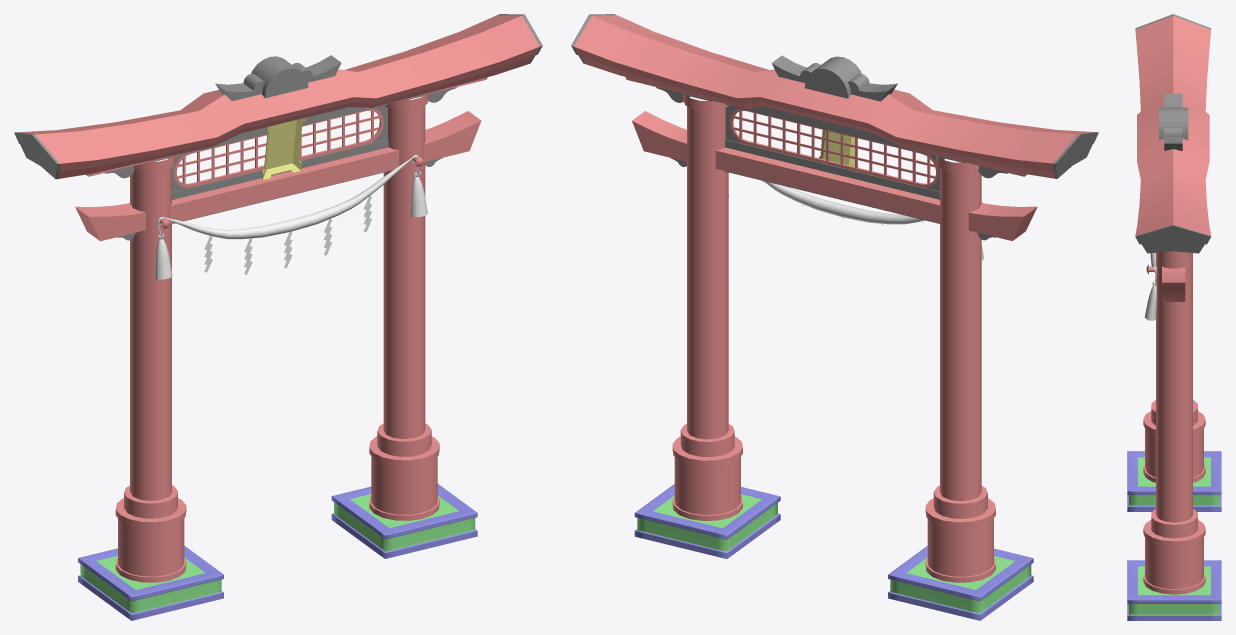
The model's file is SM_ENV_LKNVLD_Torii_Moon.gltf.
3 views of the same model, side by side, from view 1: azimuth 30°, elevation 25°; view 2: azimuth 150°, elevation 25°; view 3: azimuth 270°, elevation 25° (orthographic). The views are drawn at different scales.
Parts seen in each view (by area): view 1: SM_ENV_LKNVLD_Torii_Moon; view 2: SM_ENV_LKNVLD_Torii_Moon; view 3: SM_ENV_LKNVLD_Torii_Moon.
Part boxes in pixels (left/top/right/bottom): SM_ENV_LKNVLD_Torii_Moon: left=14, top=14, right=542, bottom=620; SM_ENV_LKNVLD_Torii_Moon: left=571, top=14, right=1098, bottom=620; SM_ENV_LKNVLD_Torii_Moon: left=1127, top=14, right=1221, bottom=620.
Size of the model in its own units: 13.61 by 13.11 by 2.56.
